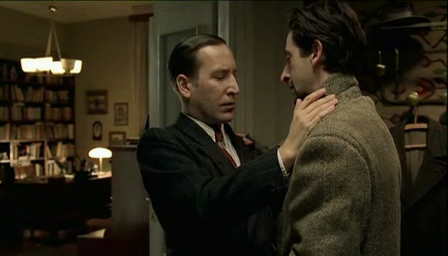face: (202, 53, 240, 124), (280, 36, 312, 106)
mcu: (1, 1, 448, 256)
person: (137, 33, 339, 256), (280, 1, 402, 256)
